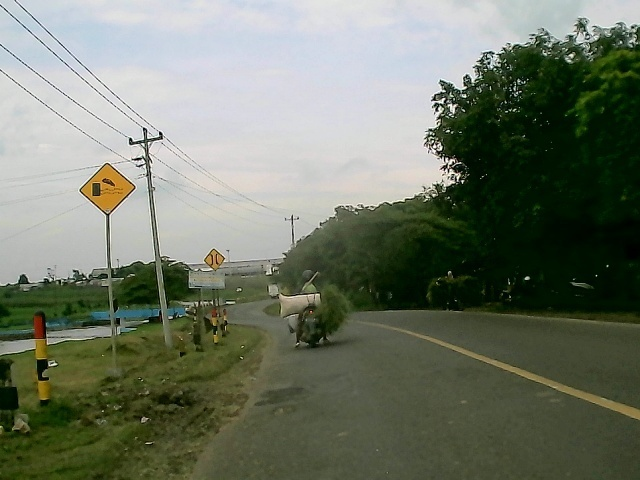Jembatan: (203, 248, 226, 271)
Peringatan tepi air: (74, 161, 139, 217)
